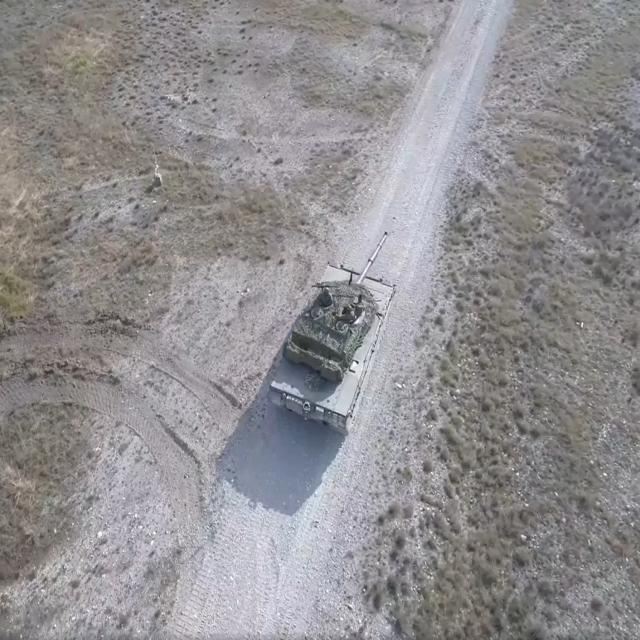tank: (265, 227, 400, 438)
